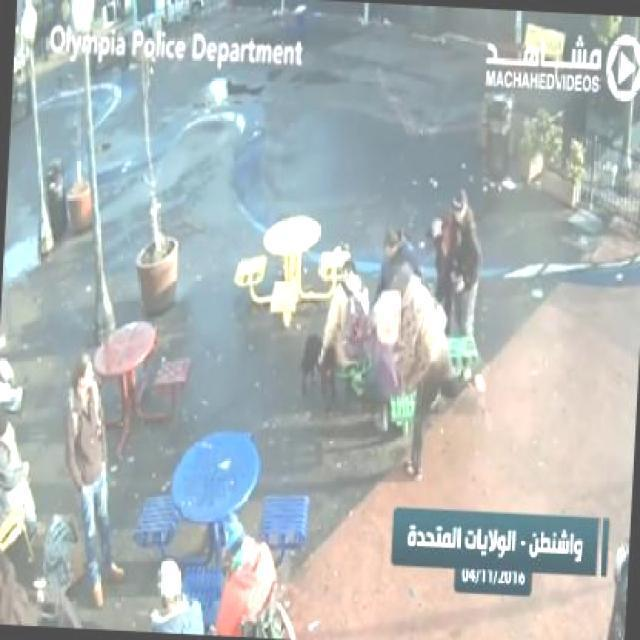fight: (338, 266, 492, 489)
